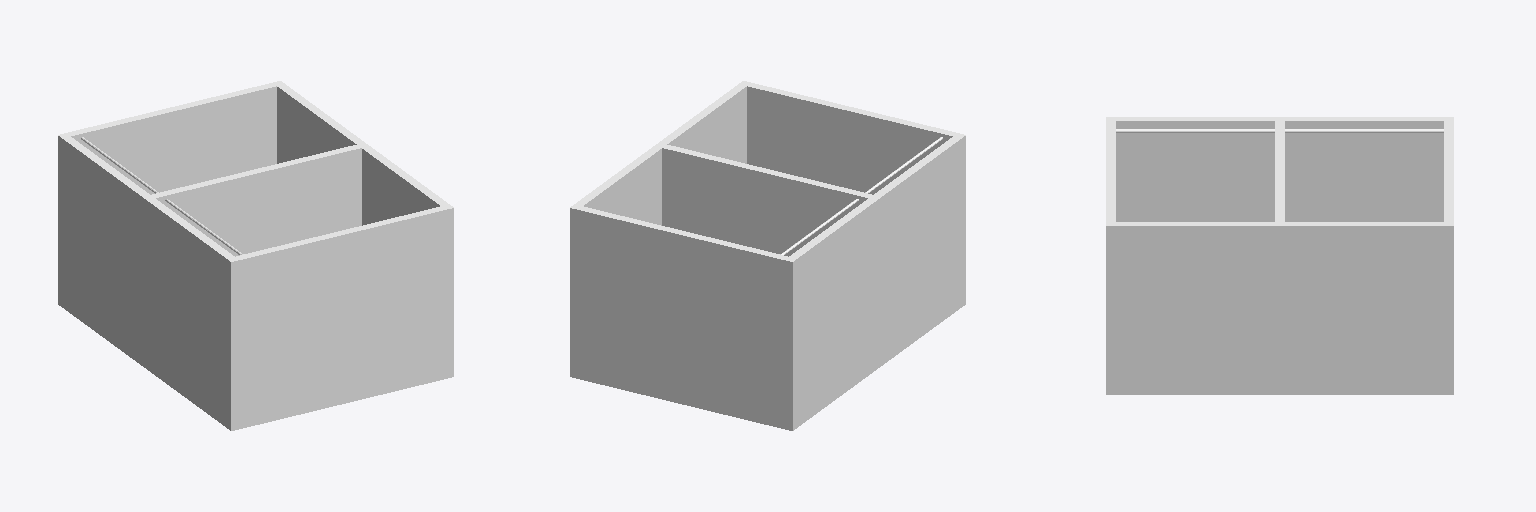
The picture shows the model from 3 angles: view 1: azimuth 30°, elevation 25°; view 2: azimuth 150°, elevation 25°; view 3: azimuth 270°, elevation 25°; orthographic projection.
Parts seen in each view (by area): view 1: obj_[number redacted]; view 2: obj_[number redacted]; view 3: obj_[number redacted].
Boxes of the visible parts, box(x1,y1,x2,y2) form: obj_[number redacted]: box(58, 81, 453, 430); obj_[number redacted]: box(570, 81, 965, 430); obj_[number redacted]: box(1106, 117, 1453, 394).
Bounding box in the file's own units: 0.4 × 0.29 × 0.54.